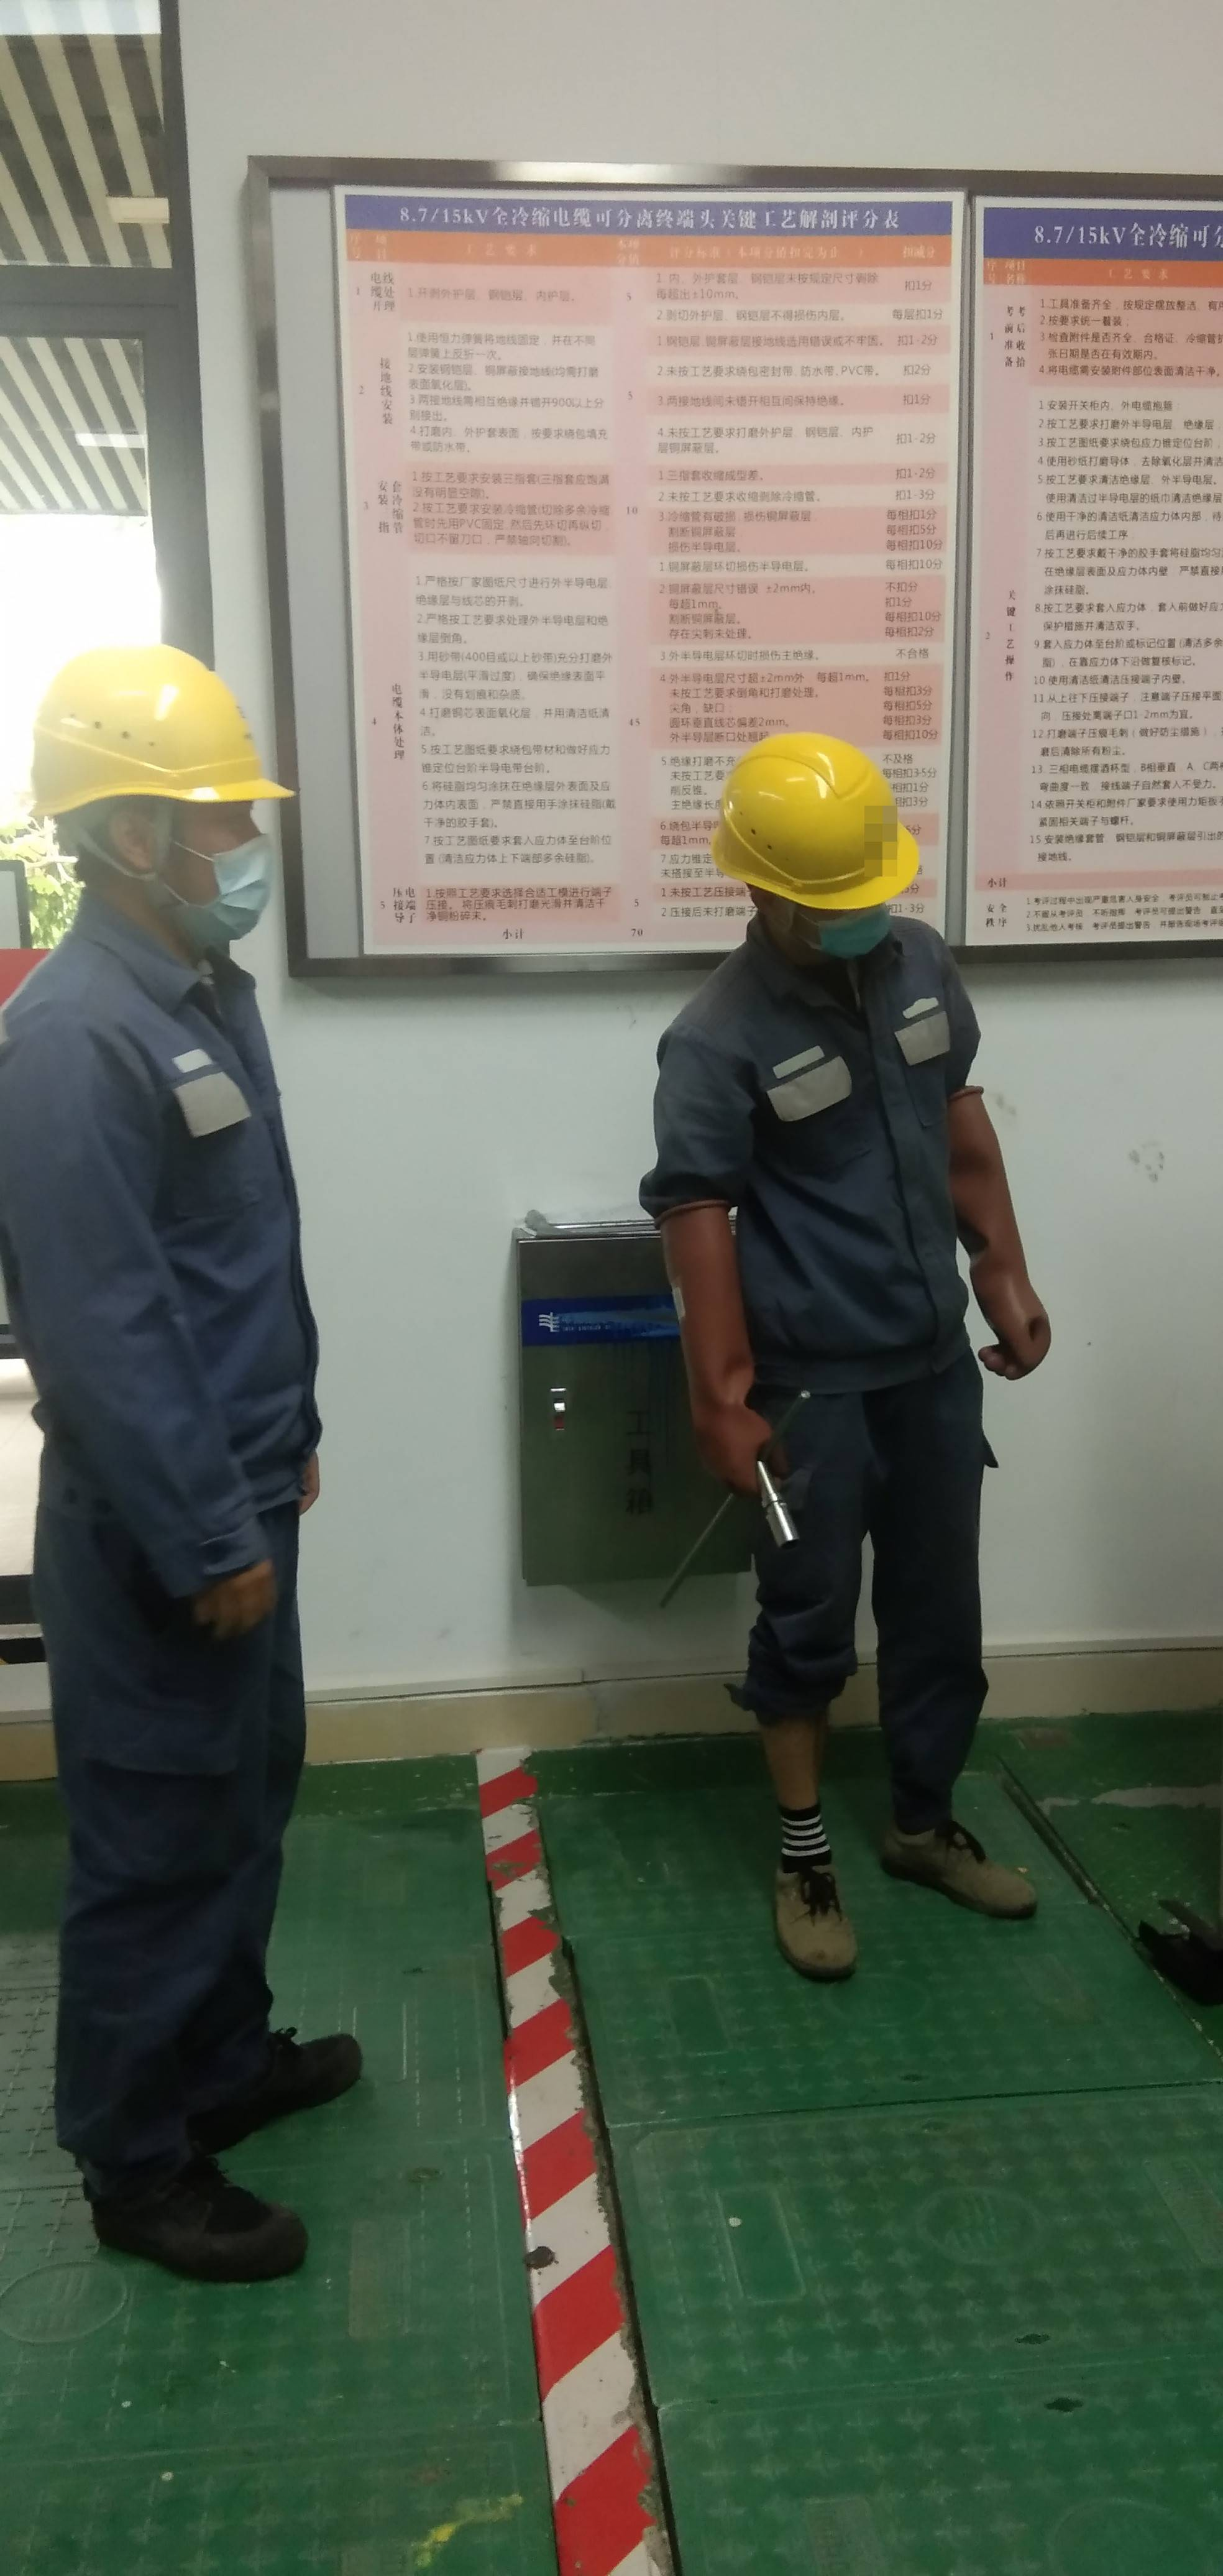downsuit: (36, 1521, 315, 2162), (737, 1406, 1000, 1828)
upsuit: (10, 927, 325, 1513), (647, 928, 1016, 1377)
wrongbottom: (740, 1649, 852, 1860)
